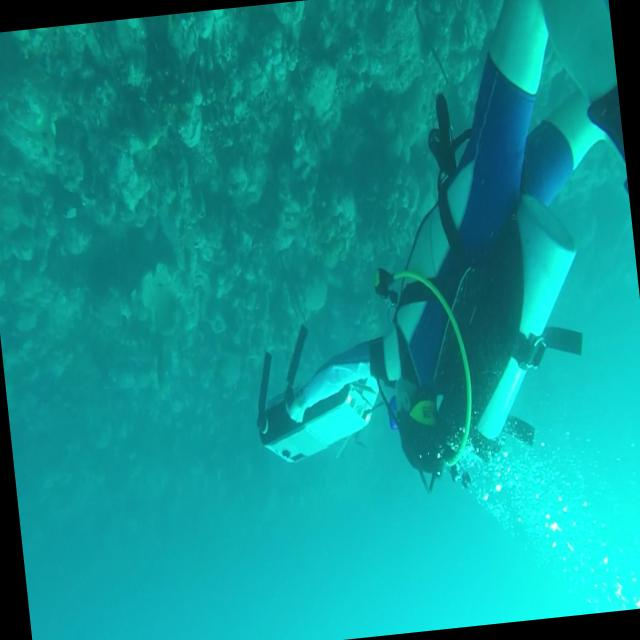human: (233, 0, 640, 499)
